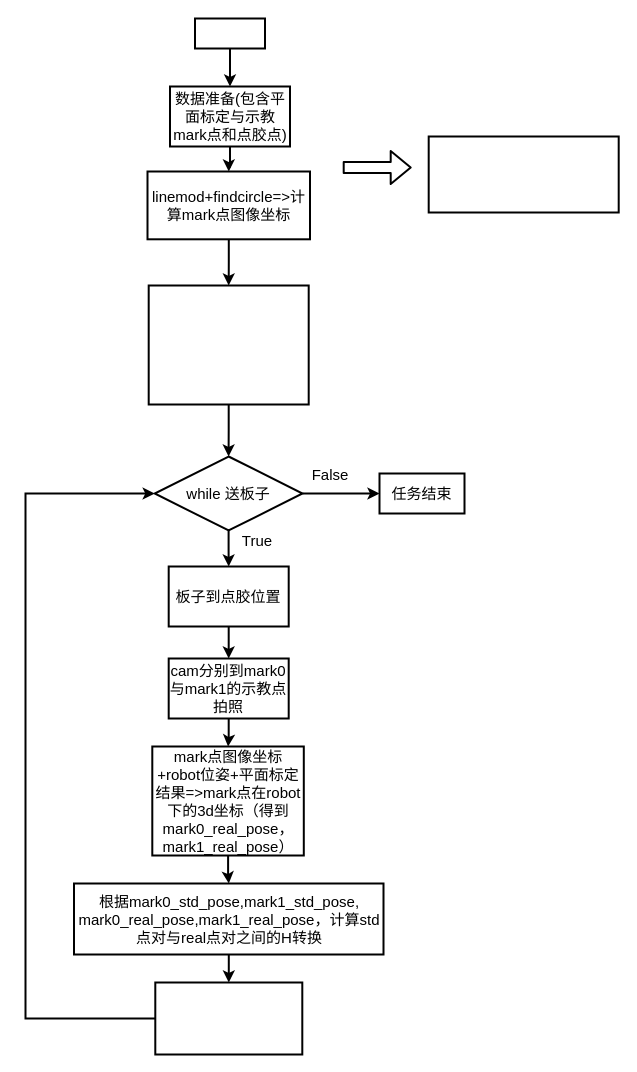
This 637x1072 diagram has some shape labels left out. The box of each missing label's shape, as (x1, y1, x2, y2) in pixels:
mark点图像坐标+robot位姿+平面标定结果=>mark点在robot下的3d坐标（得到mark0_std_pose，mark1_std_pose）: (147, 284, 309, 405)
将H应用到点胶的示教点上，计算当前板子的实际点胶位置。: (154, 981, 303, 1055)
开始: (194, 17, 266, 49)
示教的mark点有两部分，分别是机械手位姿Pose与mark点在图像中的坐标Pxy: (427, 135, 619, 213)
